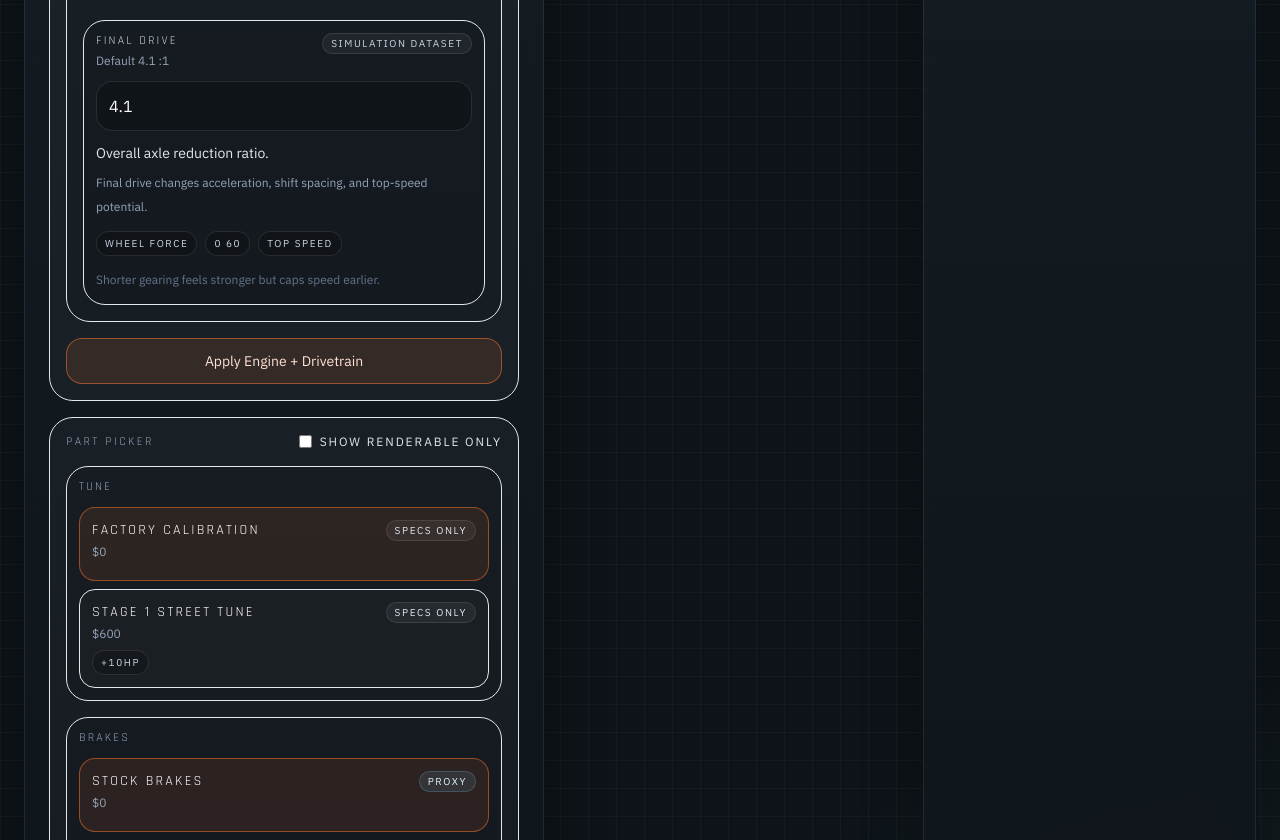
Test: BuildPlanner › filters non-renderable options without breaking the selected specs-only part
(page scrolled)
Expected: the text "Stage 1 street tune" is shown, x1=92 y1=602 x2=255 y2=622
Click the checkbox labelled "Show renderable only" at [305, 442], box x1=299 y1=435 x2=312 y2=448
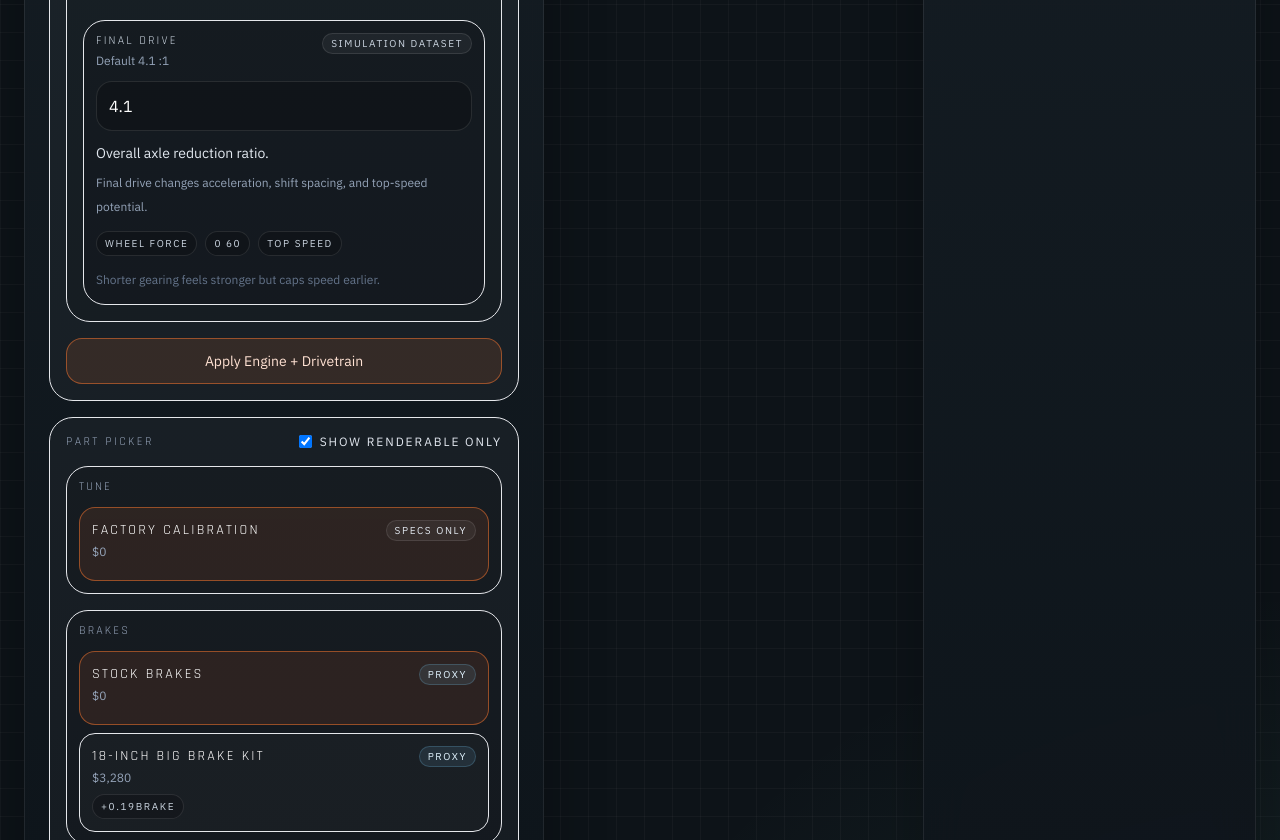
Expected: the text "Factory calibration" is shown, x1=92 y1=520 x2=260 y2=540
Now the button "Stage 1 street tune" is gone
